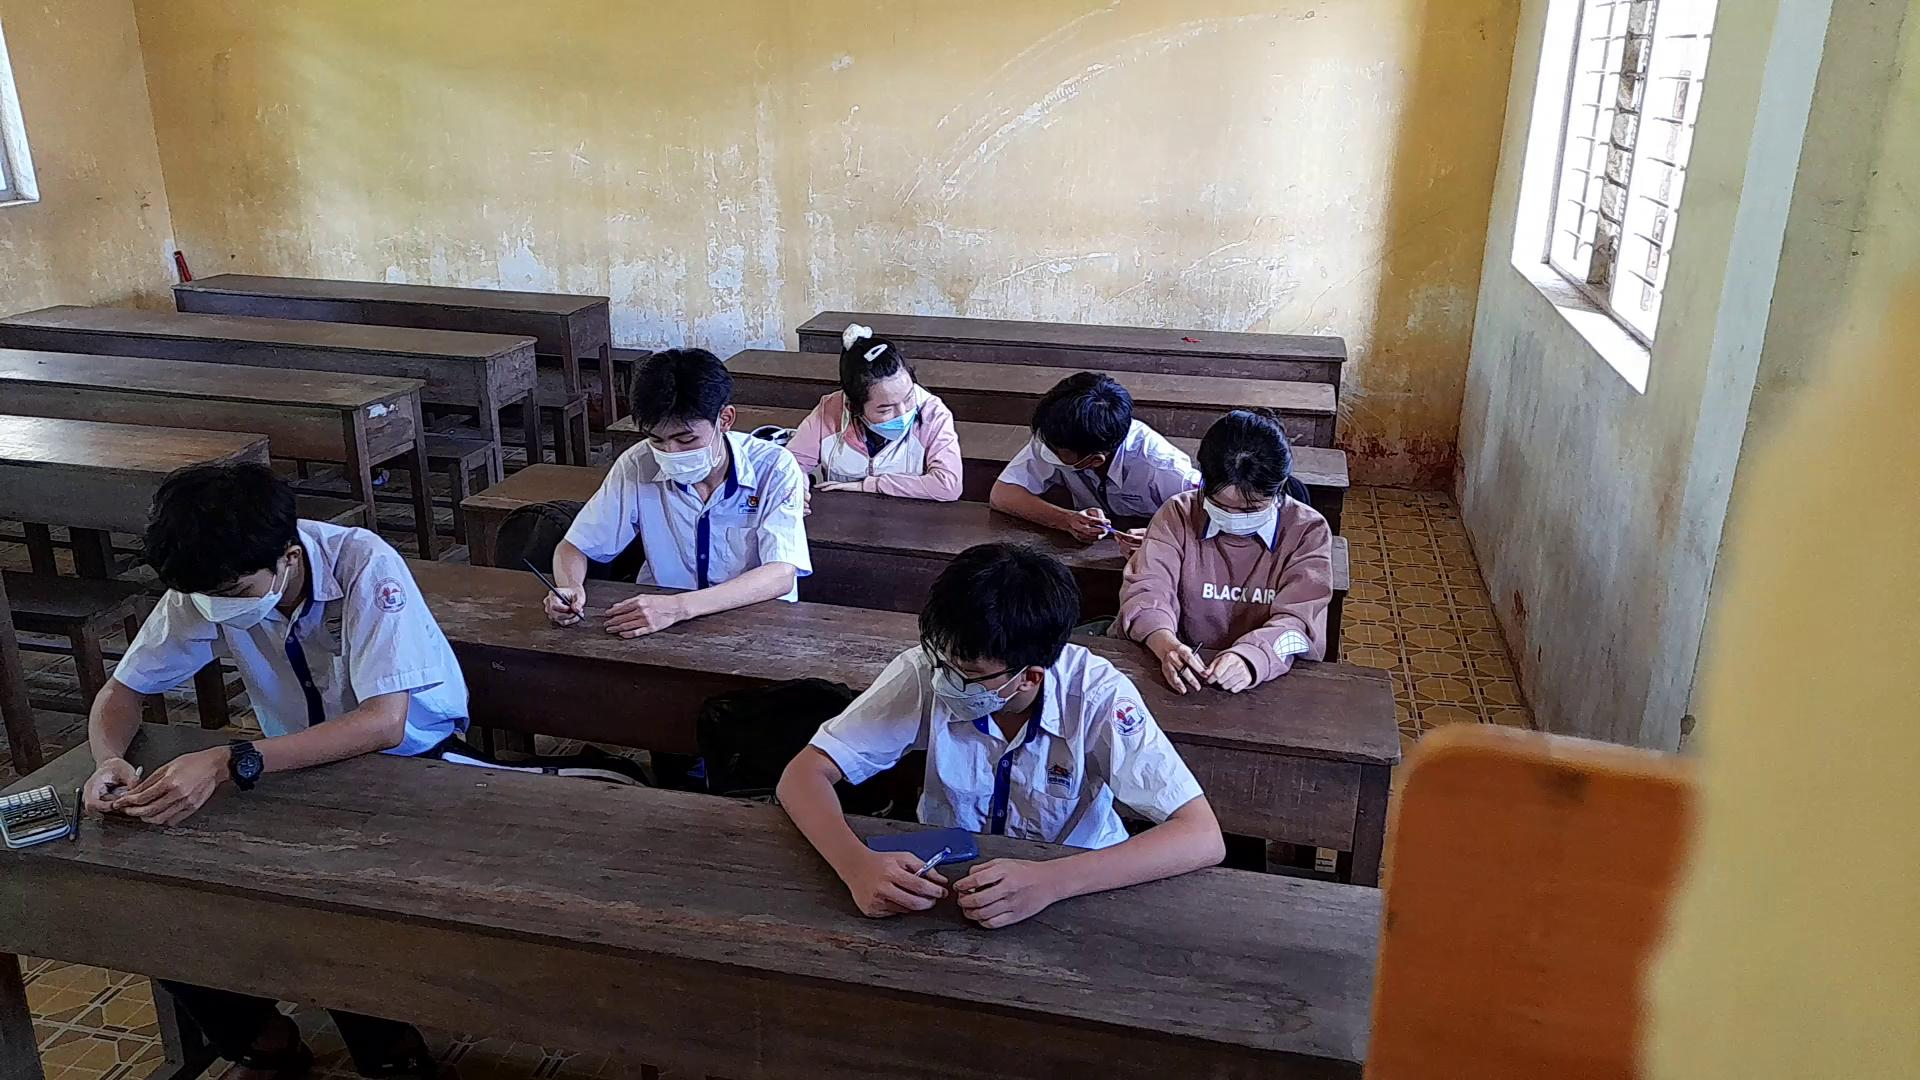Bend Over The Desk: (1189, 398, 1298, 550)
Look Around: (909, 534, 1089, 719), (820, 319, 934, 439), (1022, 367, 1135, 487)
Normal: (75, 440, 469, 818), (496, 339, 816, 644)
